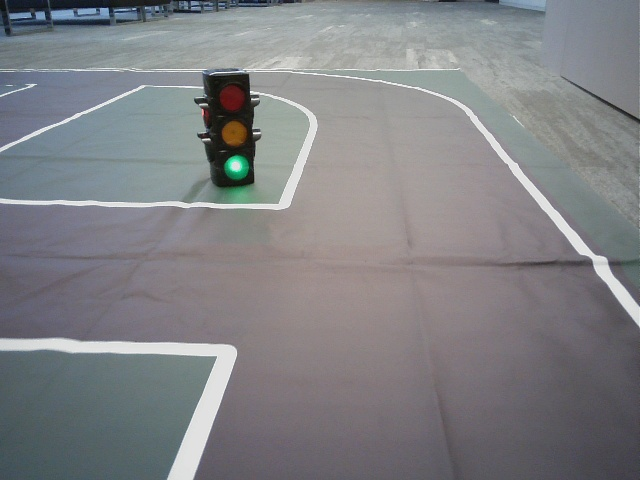green: (211, 77, 251, 183)
